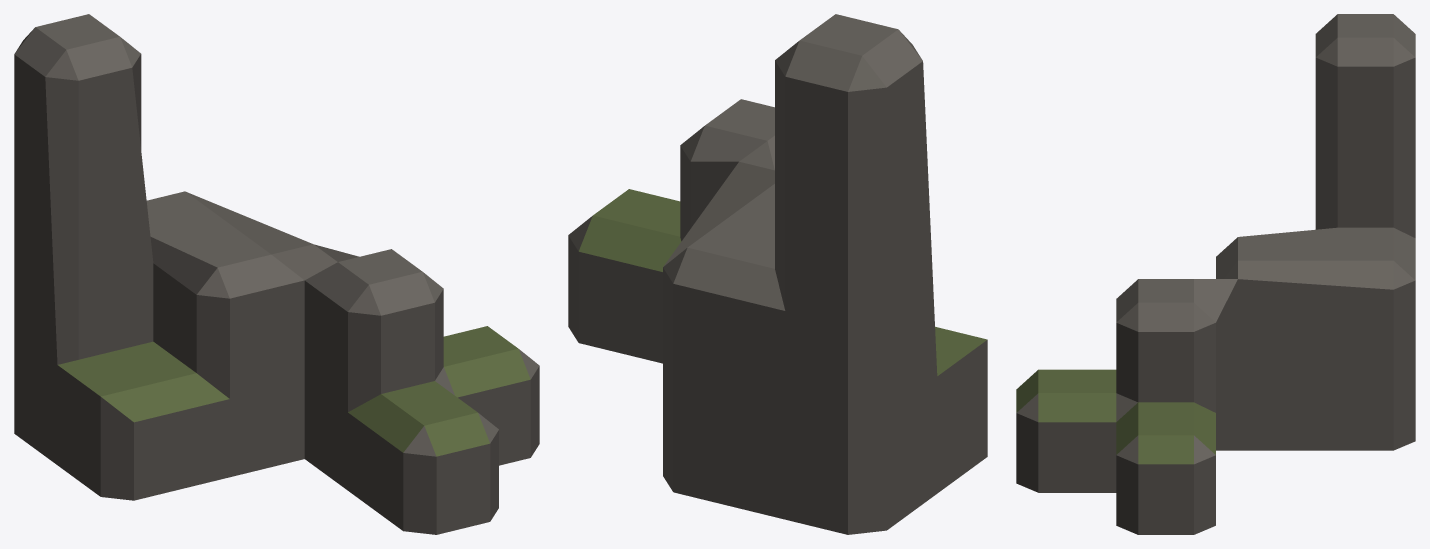
File: stone_debris_angular_chip.glb
The picture shows the model from 3 angles, left to right: view 1: azimuth 30°, elevation 25°; view 2: azimuth 150°, elevation 25°; view 3: azimuth 270°, elevation 25°; orthographic projection. The views are drawn at different scales.
Visible parts, largest first — view 1: stone_debris_angular_chip; view 2: stone_debris_angular_chip; view 3: stone_debris_angular_chip.
Boxes of the visible parts, left/top/right/bottom form: stone_debris_angular_chip: left=14, top=14, right=539, bottom=534; stone_debris_angular_chip: left=568, top=14, right=987, bottom=534; stone_debris_angular_chip: left=1016, top=14, right=1415, bottom=534.
Size of the model in its own units: 0.4 by 0.4 by 0.4.
Materials: 1 (1 with a texture image).
